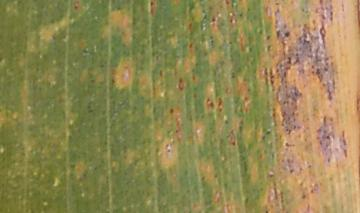tarspot: (283, 30, 291, 38), (168, 106, 175, 115), (209, 14, 216, 23), (325, 134, 331, 140)
